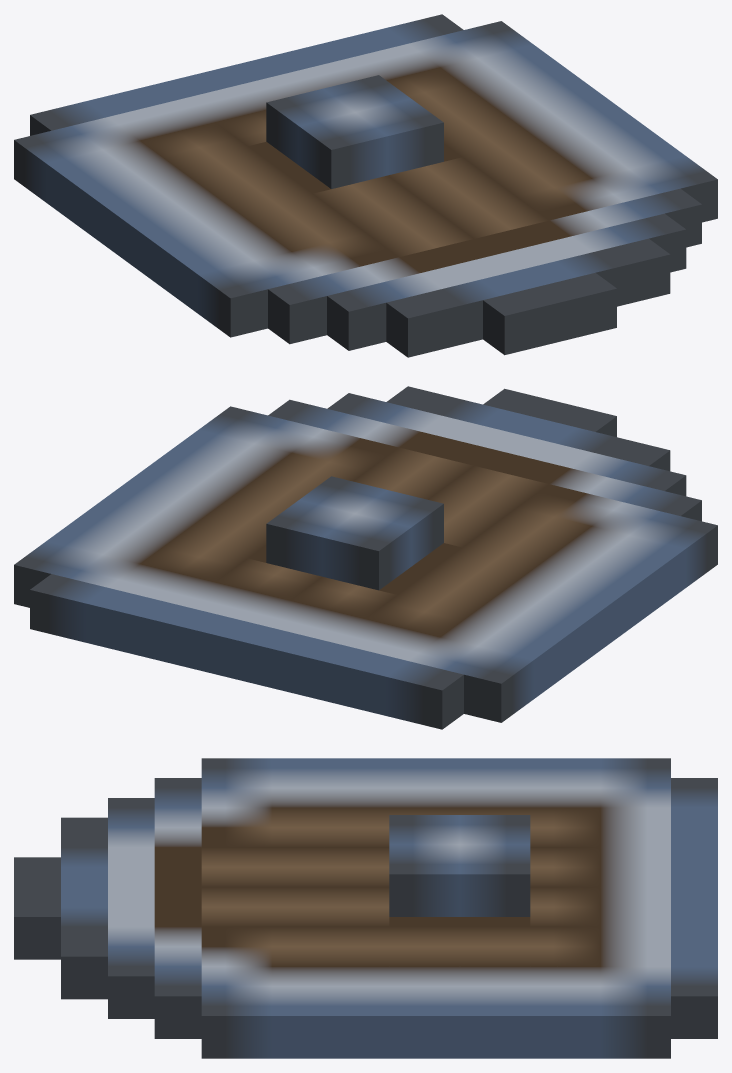
File: shield1.fbx
The picture shows the model from 3 angles, top to bottom: view 1: azimuth 30°, elevation 25°; view 2: azimuth 150°, elevation 25°; view 3: azimuth 270°, elevation 25°; orthographic projection. The views are drawn at different scales.
Parts seen in each view (by area): view 1: shield1; view 2: shield1; view 3: shield1.
Part boxes in pixels (bbox=[...]): shield1: bbox=[14, 14, 717, 357]; shield1: bbox=[14, 386, 717, 729]; shield1: bbox=[14, 758, 717, 1058].
Bounding box in the file's own units: 13 × 3 × 15.
Materials: 1 (1 with a texture image).
